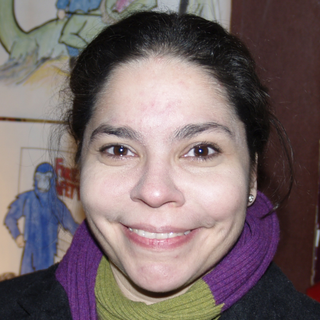eye: (178, 139, 225, 164), (96, 140, 140, 165)
